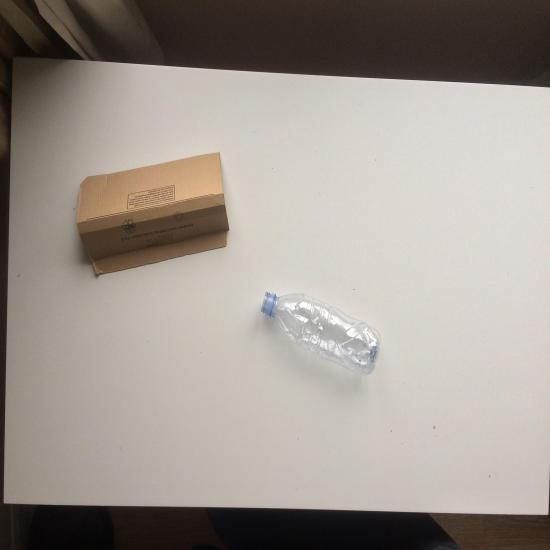Corrugated carton: (77, 152, 229, 273)
Other plastic container: (261, 292, 381, 376)
